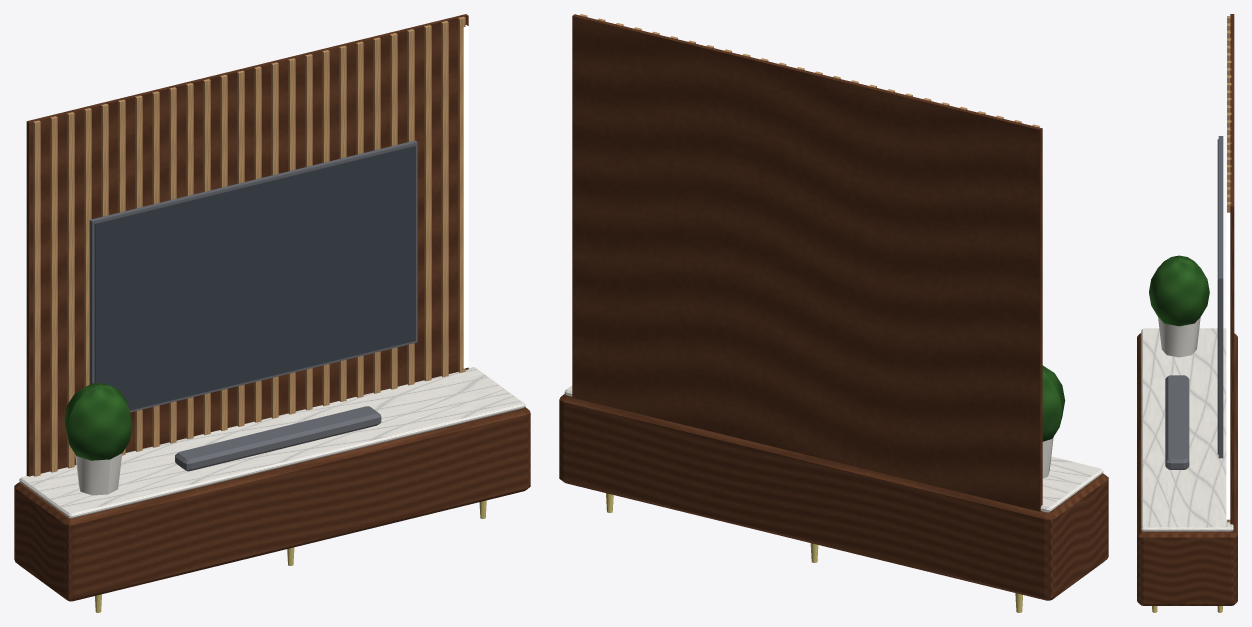
Rendered from tv_cabinet_wall_unit.glb.
The picture shows the model from 3 angles, left to right: view 1: azimuth 30°, elevation 25°; view 2: azimuth 150°, elevation 25°; view 3: azimuth 270°, elevation 25°; orthographic projection. The views are drawn at different scales.
Visible parts, largest first — view 1: tv_cabinet_wall_unit_woodWalnut, tv_cabinet_wall_unit_tvScreen, tv_cabinet_wall_unit_woodOak, tv_cabinet_wall_unit_marbleCarrara, tv_cabinet_wall_unit_metalBlack, tv_cabinet_wall_unit_foliageDark, tv_cabinet_wall_unit_emissiveWarm, tv_cabinet_wall_unit_ceramicVase; view 2: tv_cabinet_wall_unit_woodWalnut, tv_cabinet_wall_unit_marbleCarrara, tv_cabinet_wall_unit_foliageDark; view 3: tv_cabinet_wall_unit_marbleCarrara, tv_cabinet_wall_unit_woodWalnut, tv_cabinet_wall_unit_metalBlack, tv_cabinet_wall_unit_foliageDark, tv_cabinet_wall_unit_emissiveWarm, tv_cabinet_wall_unit_ceramicVase, tv_cabinet_wall_unit_woodOak, tv_cabinet_wall_unit_tvScreen.
Part boxes in pixels (left/top/right/bottom): tv_cabinet_wall_unit_woodWalnut: left=14, top=14, right=530, bottom=601; tv_cabinet_wall_unit_tvScreen: left=94, top=145, right=415, bottom=410; tv_cabinet_wall_unit_woodOak: left=33, top=16, right=465, bottom=476; tv_cabinet_wall_unit_marbleCarrara: left=19, top=367, right=525, bottom=518; tv_cabinet_wall_unit_metalBlack: left=89, top=140, right=417, bottom=471; tv_cabinet_wall_unit_foliageDark: left=64, top=383, right=132, bottom=460; tv_cabinet_wall_unit_emissiveWarm: left=463, top=25, right=468, bottom=368; tv_cabinet_wall_unit_ceramicVase: left=75, top=453, right=122, bottom=495; tv_cabinet_wall_unit_woodWalnut: left=559, top=14, right=1108, bottom=600; tv_cabinet_wall_unit_marbleCarrara: left=564, top=385, right=1103, bottom=512; tv_cabinet_wall_unit_foliageDark: left=1042, top=365, right=1065, bottom=441; tv_cabinet_wall_unit_marbleCarrara: left=1141, top=328, right=1233, bottom=531; tv_cabinet_wall_unit_woodWalnut: left=1137, top=14, right=1237, bottom=605; tv_cabinet_wall_unit_metalBlack: left=1165, top=136, right=1223, bottom=469; tv_cabinet_wall_unit_foliageDark: left=1149, top=255, right=1209, bottom=326; tv_cabinet_wall_unit_emissiveWarm: left=1226, top=211, right=1230, bottom=519; tv_cabinet_wall_unit_ceramicVase: left=1158, top=317, right=1200, bottom=357; tv_cabinet_wall_unit_woodOak: left=1227, top=16, right=1231, bottom=522; tv_cabinet_wall_unit_tvScreen: left=1217, top=139, right=1218, bottom=454.
Size of what is drawn, in the model's own units: 2.2 by 2.1 by 0.46.
Materials: 9 (4 with a texture image).
